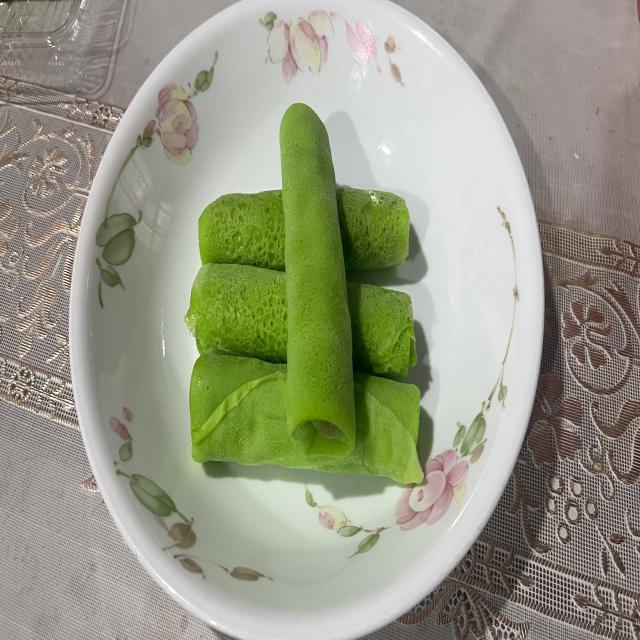Kuih-Ketayap: (190, 351, 424, 484), (280, 104, 355, 453), (185, 262, 288, 362), (199, 191, 285, 271), (346, 282, 416, 378), (336, 184, 410, 269)
